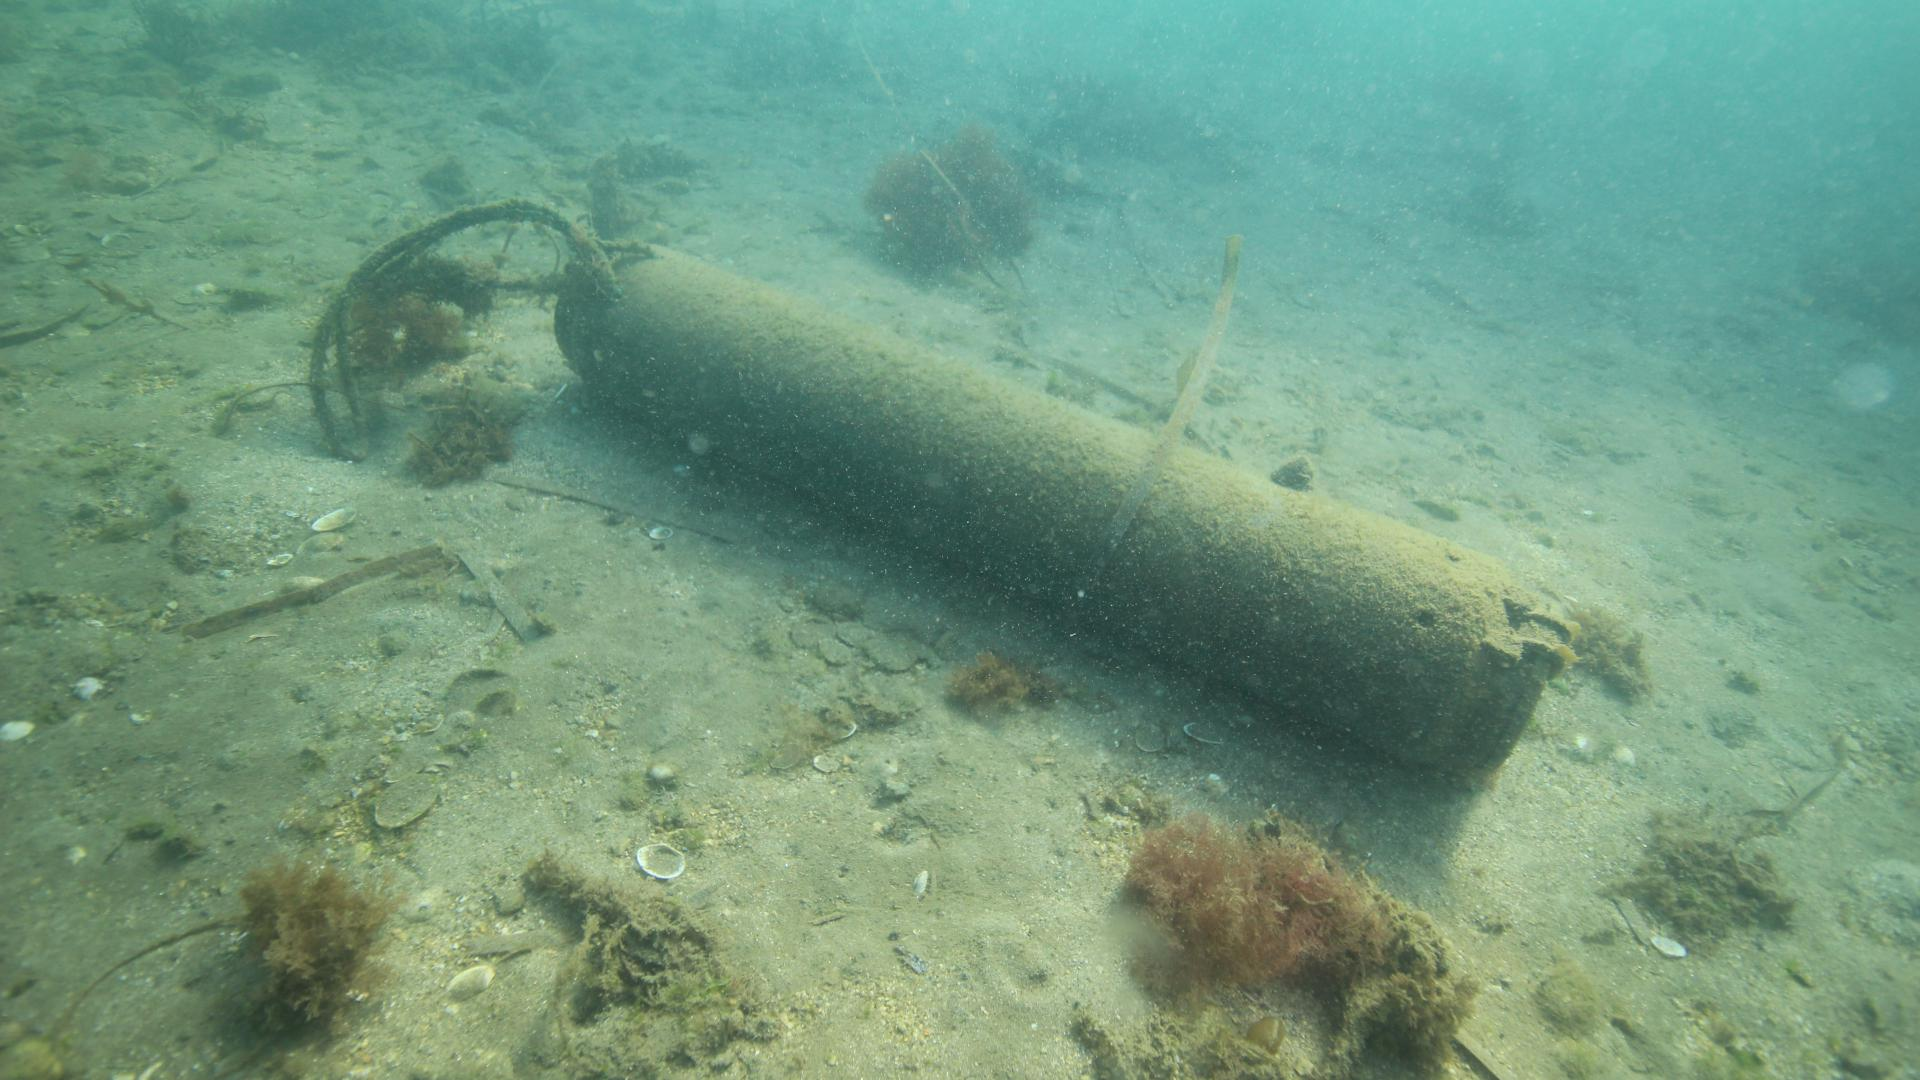bundle of ropes: (305, 200, 653, 465)
eel fish trap: (553, 241, 1567, 785)
